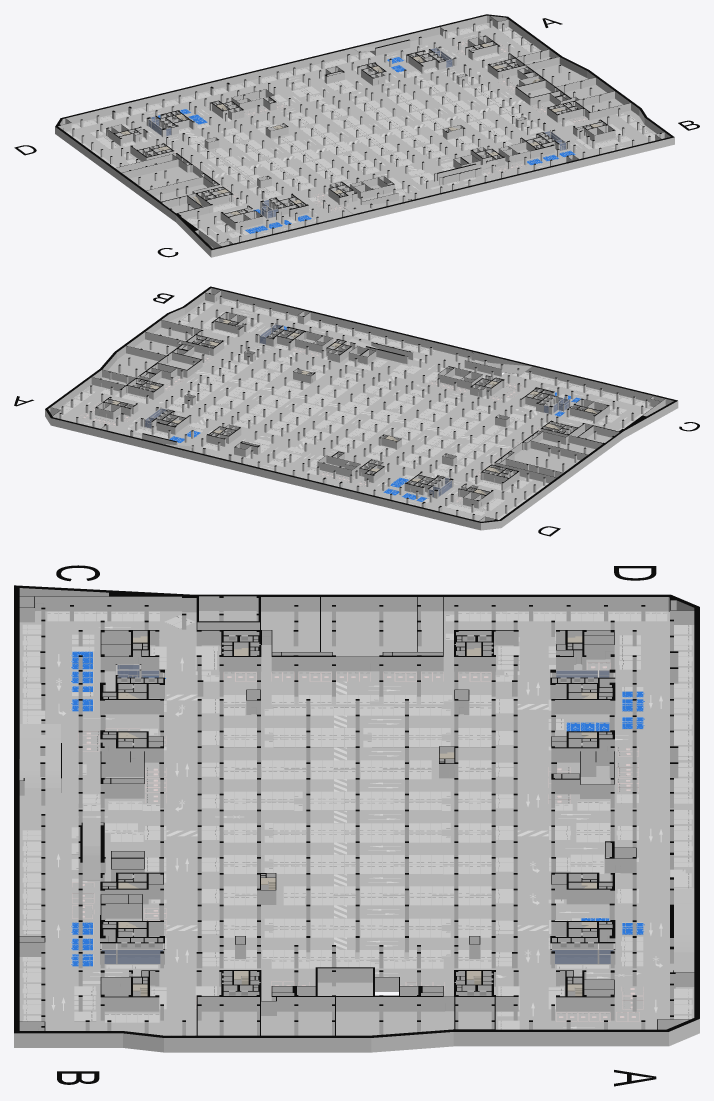
3 views of the same model, one above another, from view 1: azimuth 30°, elevation 25°; view 2: azimuth 150°, elevation 25°; view 3: azimuth 270°, elevation 25° (orthographic). The views are drawn at different scales.
Visible parts, largest first — view 1: B7F_A,B,C,D; view 2: B7F_A,B,C,D; view 3: B7F_A,B,C,D.
Boxes of the visible parts, box(x1,y1,x2,y2) form: B7F_A,B,C,D: box(14, 14, 699, 257); B7F_A,B,C,D: box(14, 286, 699, 536); B7F_A,B,C,D: box(14, 565, 699, 1086).
Size of the model in its own units: 280 by 3.76 by 156.
